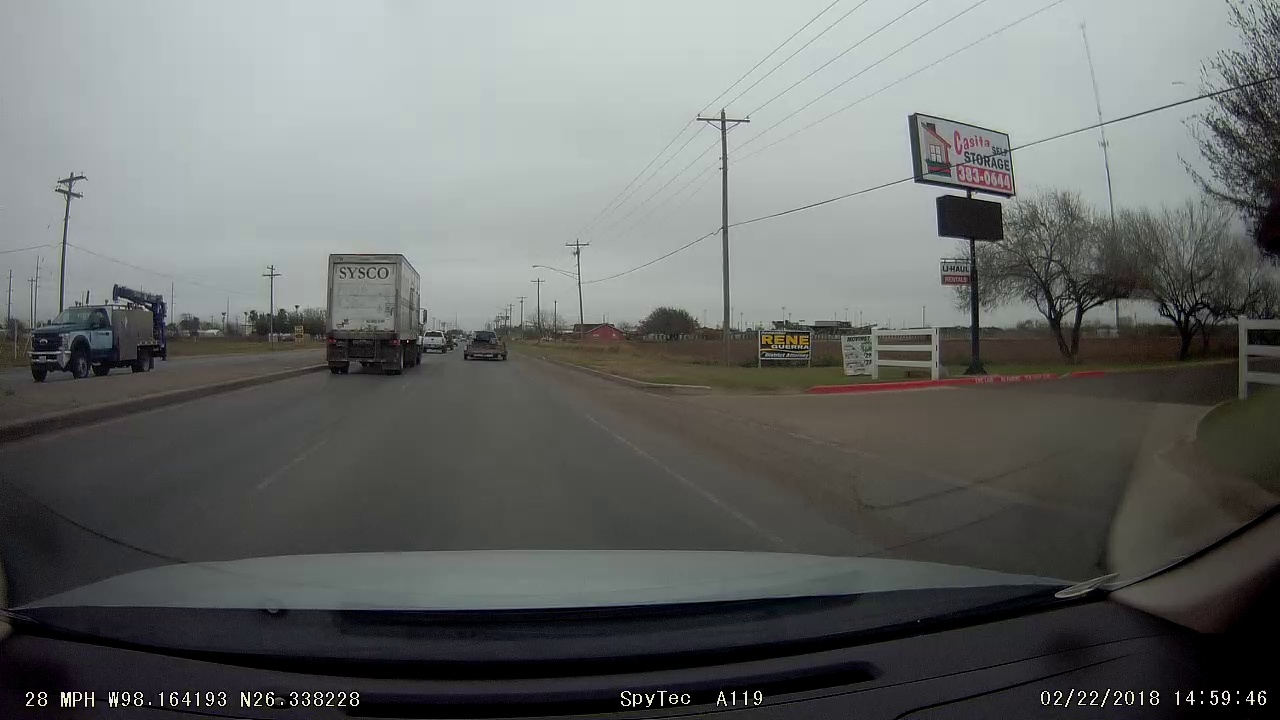blurredLine: (243, 433, 337, 499)
